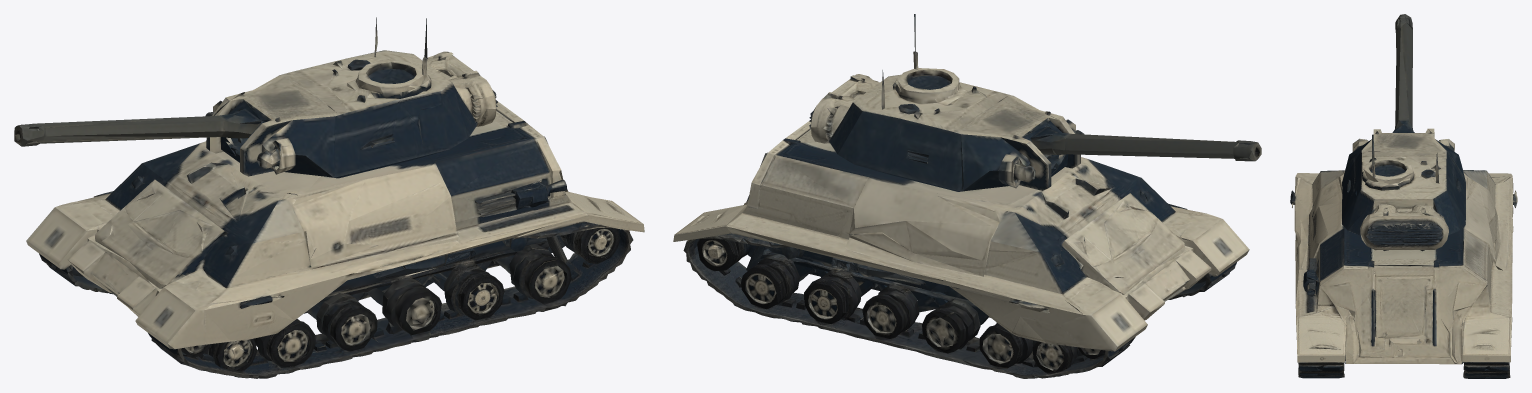
File: hammer.glb
3 views of the same model, side by side, from view 1: azimuth 30°, elevation 25°; view 2: azimuth 150°, elevation 25°; view 3: azimuth 270°, elevation 25° (orthographic). The views are drawn at different scales.
Bounding box in the file's own units: 1.9 × 0.9023 × 0.8872.
1 material, 1 textured.
